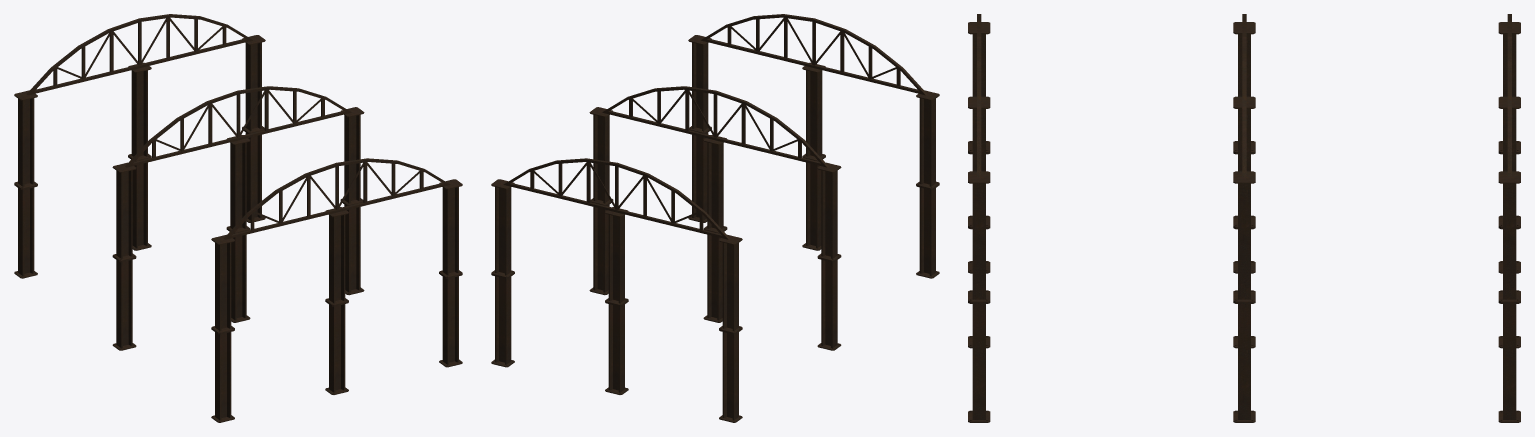
File: warehouse_hl_1_frame.obj
The picture shows the model from 3 angles, left to right: view 1: azimuth 30°, elevation 25°; view 2: azimuth 150°, elevation 25°; view 3: azimuth 270°, elevation 25°; orthographic projection. The views are drawn at different scales.
Parts seen in each view (by area): view 1: warehouse_hl_1_frame; view 2: warehouse_hl_1_frame; view 3: warehouse_hl_1_frame.
Boxes of the visible parts, box(x1,y1,x2,y2) form: warehouse_hl_1_frame: box(14, 14, 462, 422); warehouse_hl_1_frame: box(491, 14, 939, 422); warehouse_hl_1_frame: box(968, 14, 1520, 422).
Size of the model in its own units: 8.6 by 7.62 by 12.5.
